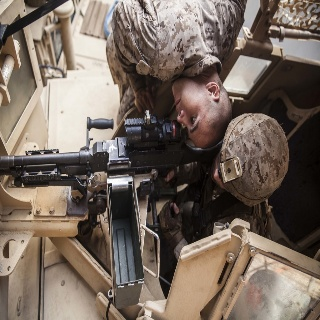rifle: (1, 109, 224, 217)
